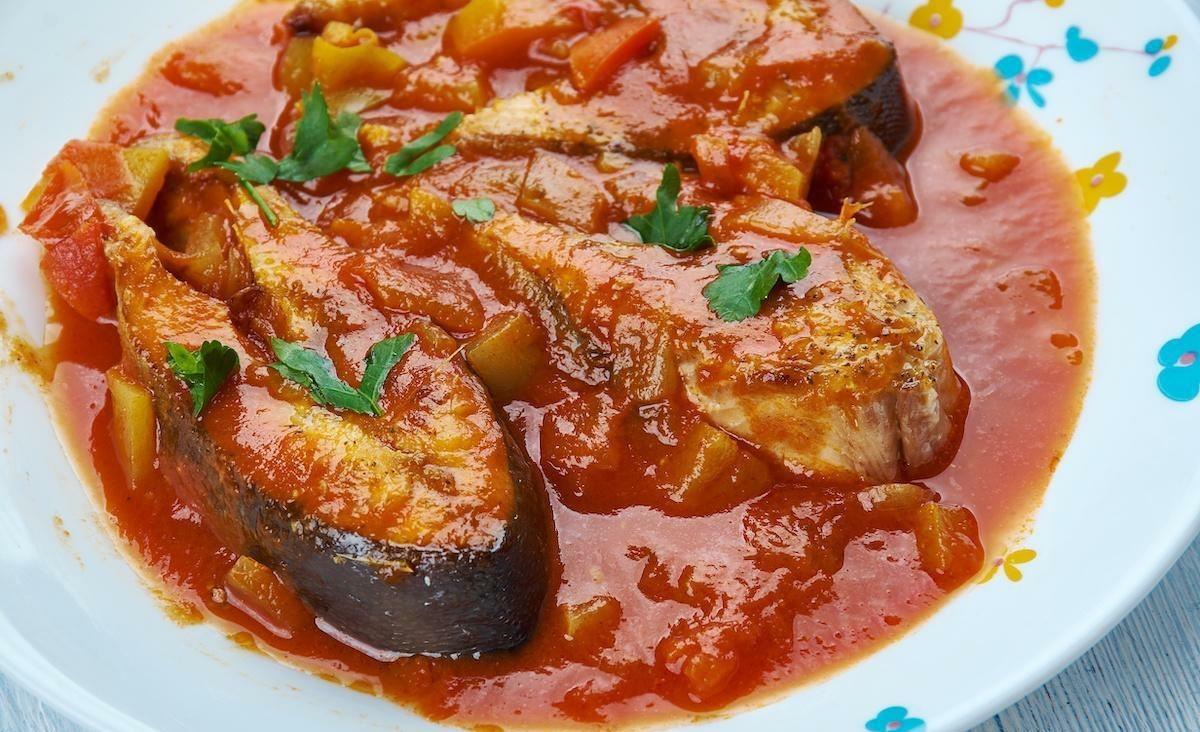FishCurry: (29, 4, 1092, 724)
